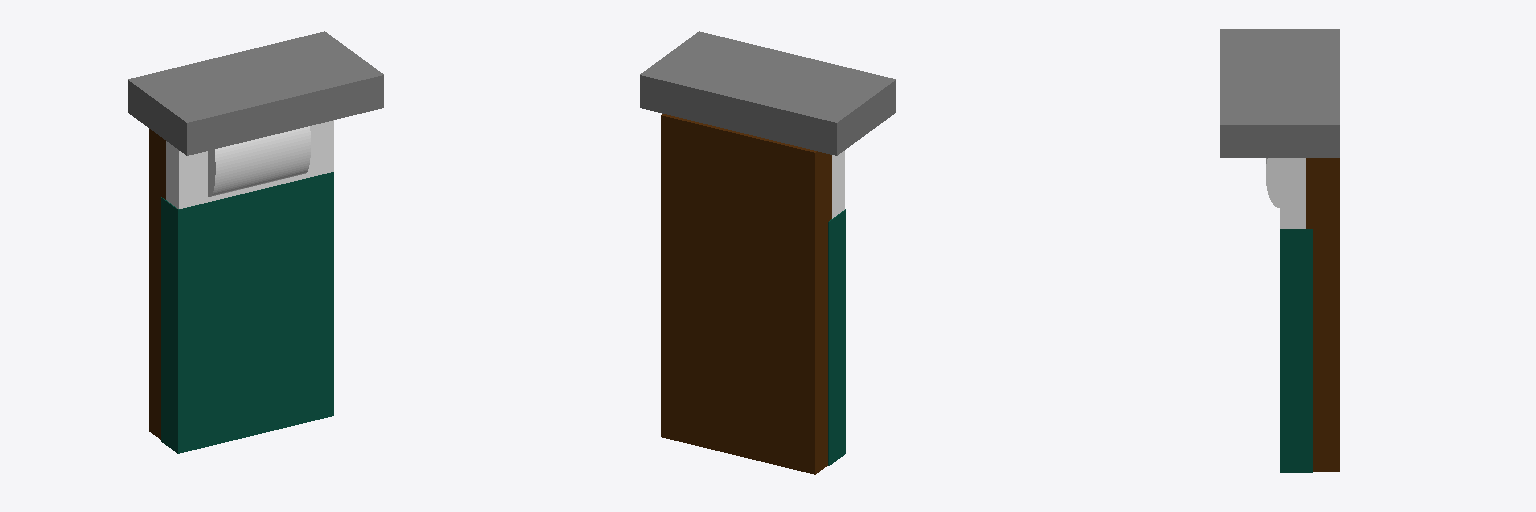
Rendered from tinker.obj.
The picture shows the model from 3 angles: view 1: azimuth 30°, elevation 25°; view 2: azimuth 150°, elevation 25°; view 3: azimuth 270°, elevation 25°; orthographic projection.
Parts seen in each view (by area): view 1: obj_0; view 2: obj_0; view 3: obj_0.
Part boxes in pixels (left/top/right/bottom): obj_0: left=128, top=31, right=383, bottom=453; obj_0: left=640, top=31, right=895, bottom=474; obj_0: left=1220, top=29, right=1339, bottom=472.
Size of the model in its own units: 67 by 116 by 35.